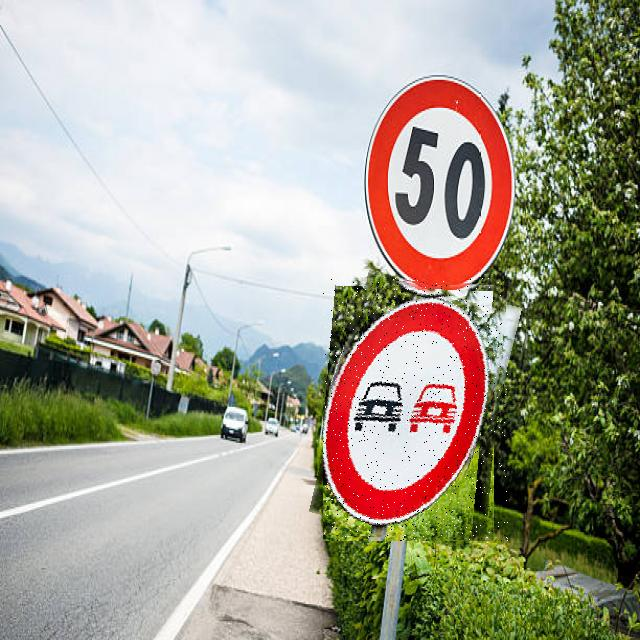no overtaking: (323, 278, 508, 541)
